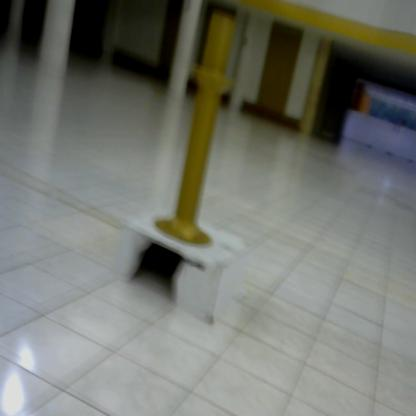pole: (152, 7, 249, 253)
